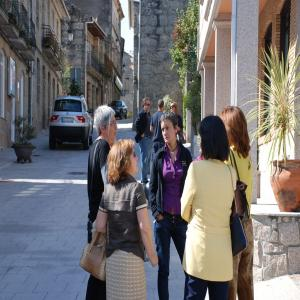Vehicle-registration-plate: (62, 118, 75, 123)
